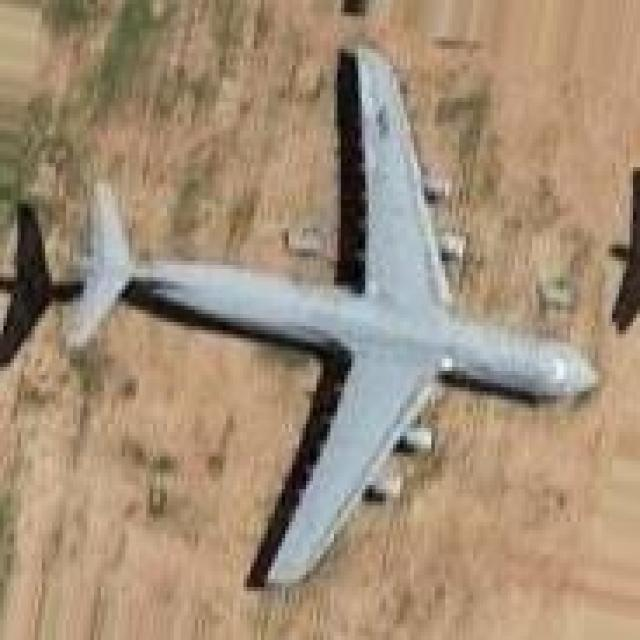C-5_TopDown: (0, 40, 598, 595)
